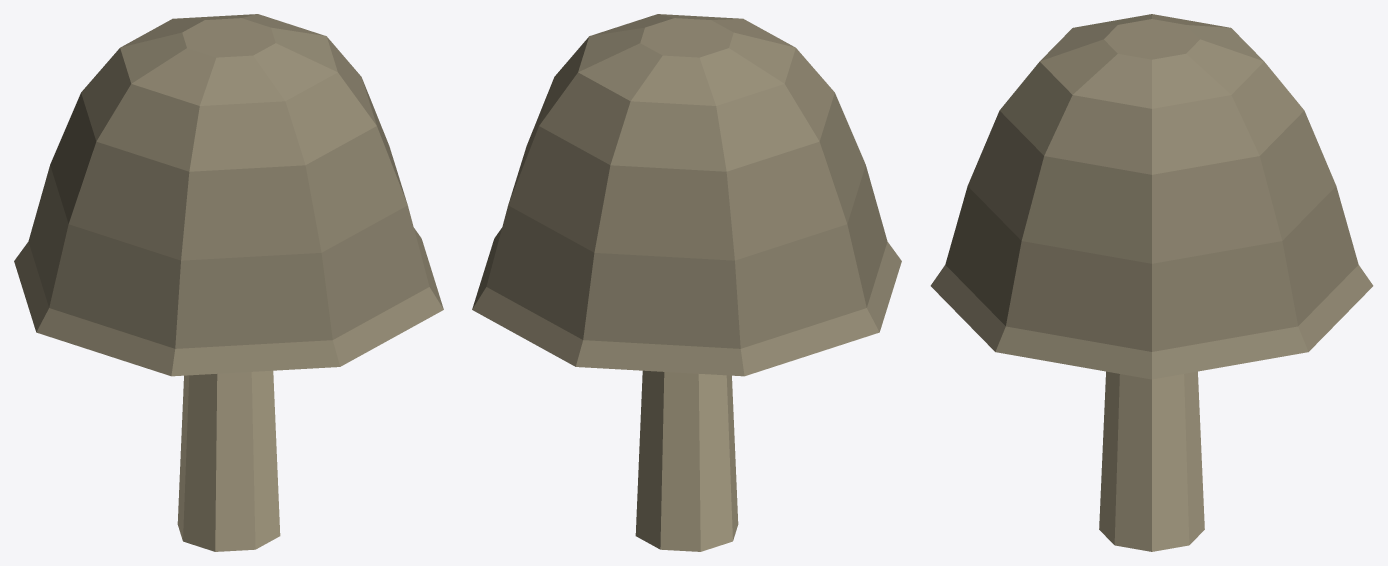
File: Agaricus_Atramentarius_big.fbx
3 views of the same model, side by side, from view 1: azimuth 30°, elevation 25°; view 2: azimuth 150°, elevation 25°; view 3: azimuth 270°, elevation 25° (orthographic).
Parts seen in each view (by area): view 1: Cylinder.001; view 2: Cylinder.001; view 3: Cylinder.001.
Part boxes in pixels (x1=…): Cylinder.001: x1=14, y1=14, x2=443, y2=551; Cylinder.001: x1=472, y1=14, x2=901, y2=551; Cylinder.001: x1=930, y1=14, x2=1373, y2=551.
Bounding box in the file's own units: 84.6 × 103 × 84.6.
